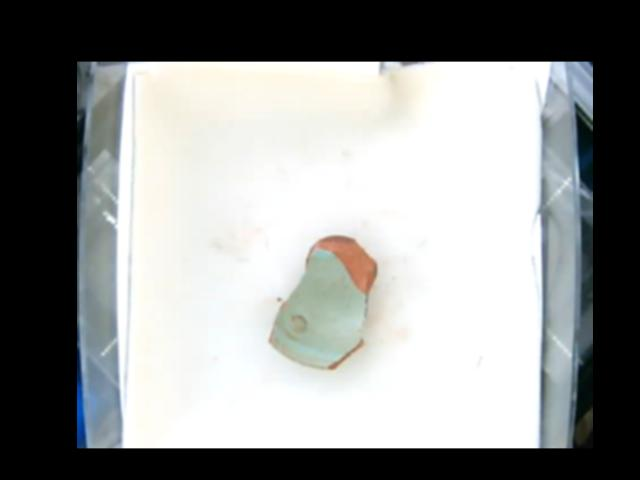China: (268, 232, 373, 367)
